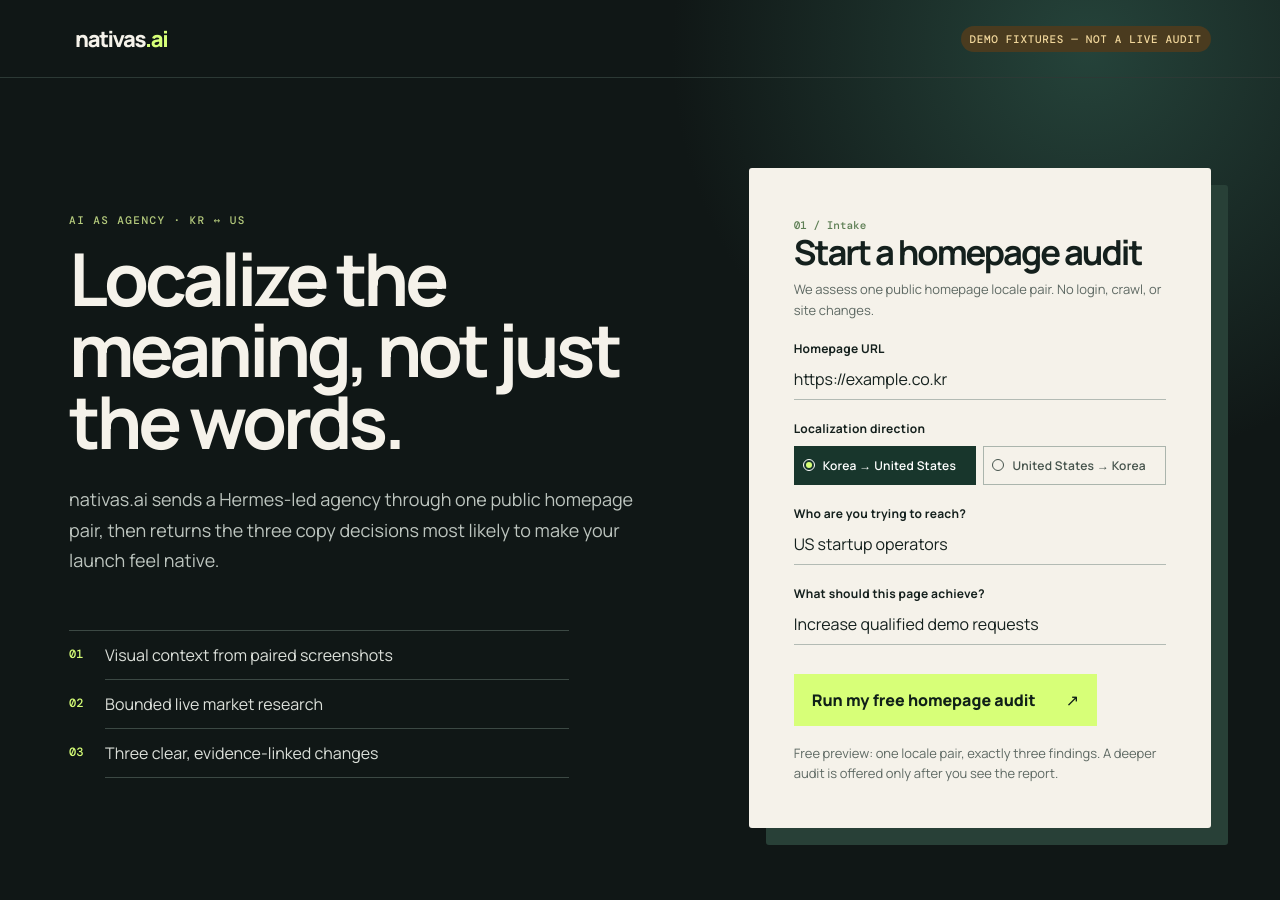
Test: intake › blocks malformed and private URLs with an honest scope error
Replace the text in the field labelled "Homepage URL" with "https://192.168.0.4" at (980, 378), box 794,357 -> 1166,400
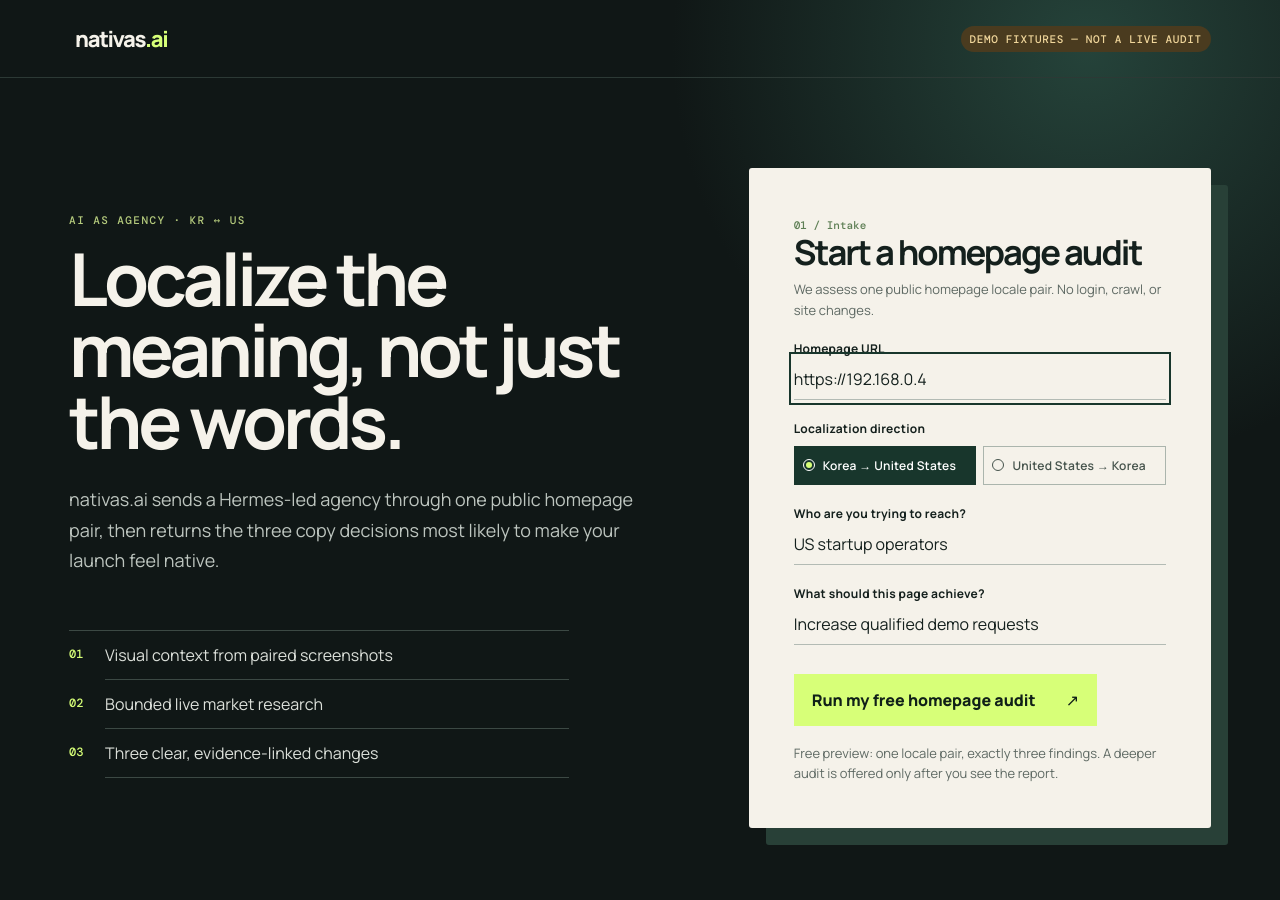
Click the button "Run my free homepage audit ↗" at (945, 700), box 794,674 -> 1097,726
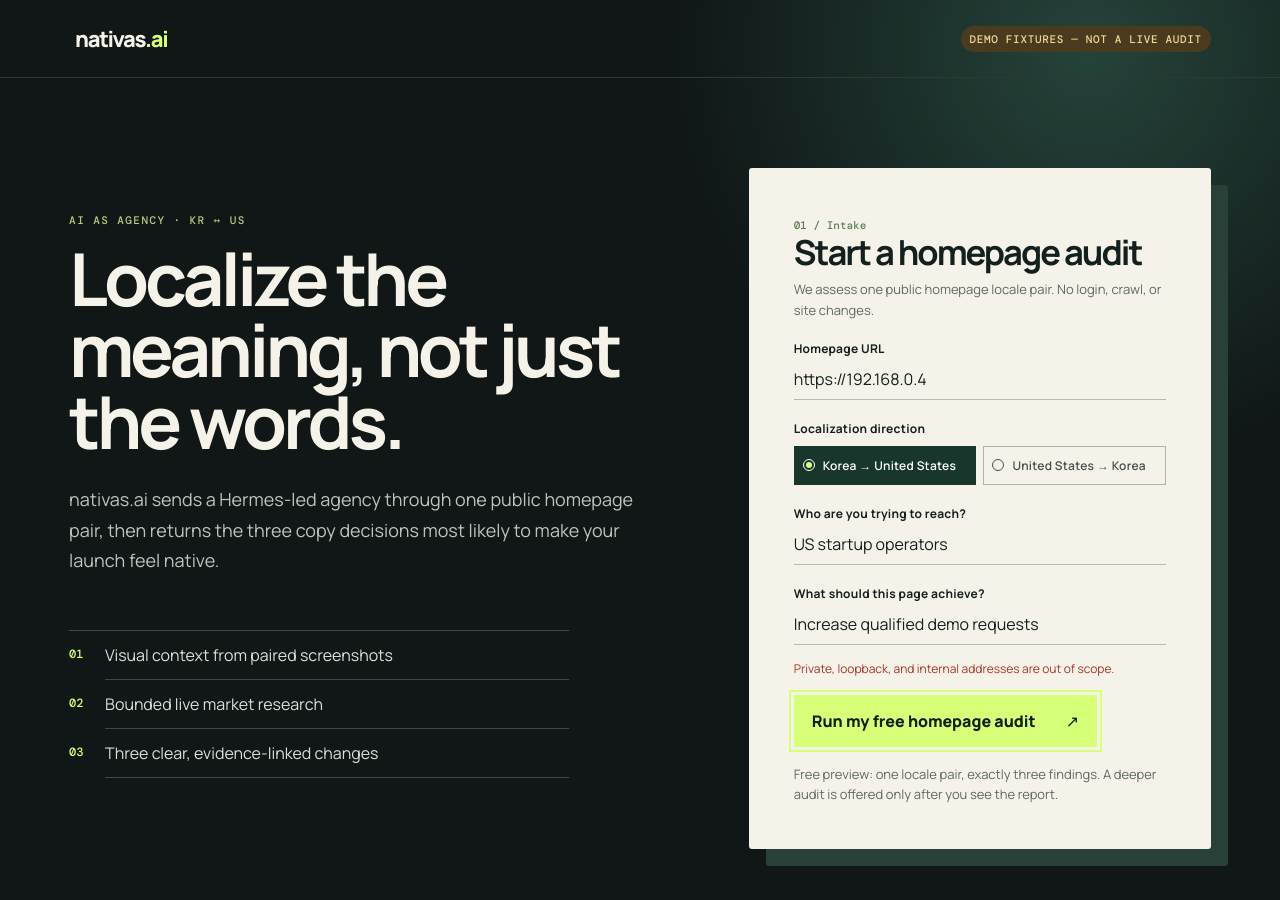
Expected: the message shows "out of scope", 794,660 -> 1114,677
Replace the text in the field labelled "Homepage URL" with "nonsense" at (980, 378), box 794,357 -> 1166,400
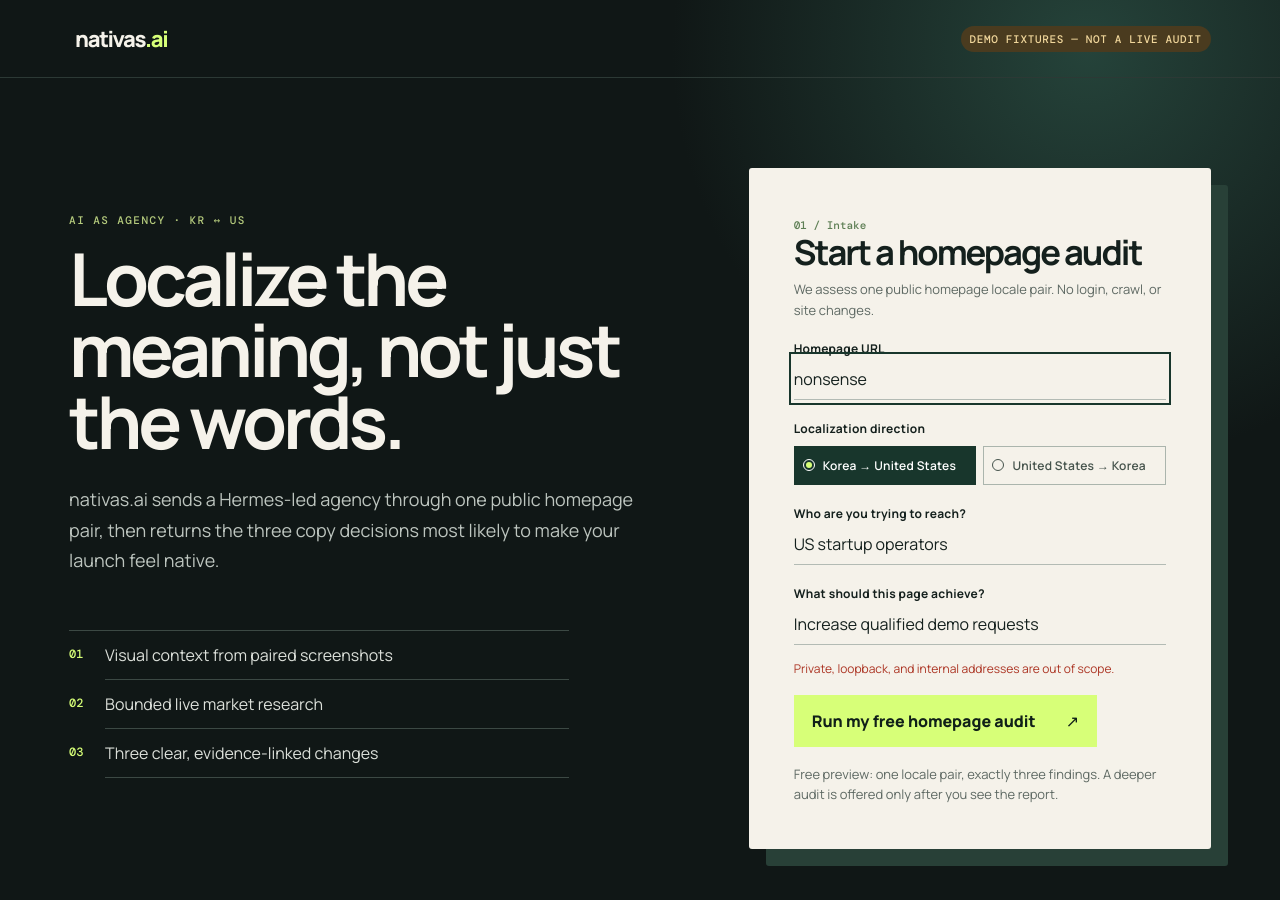
Click the button "Run my free homepage audit ↗" at (945, 721), box 794,695 -> 1097,747
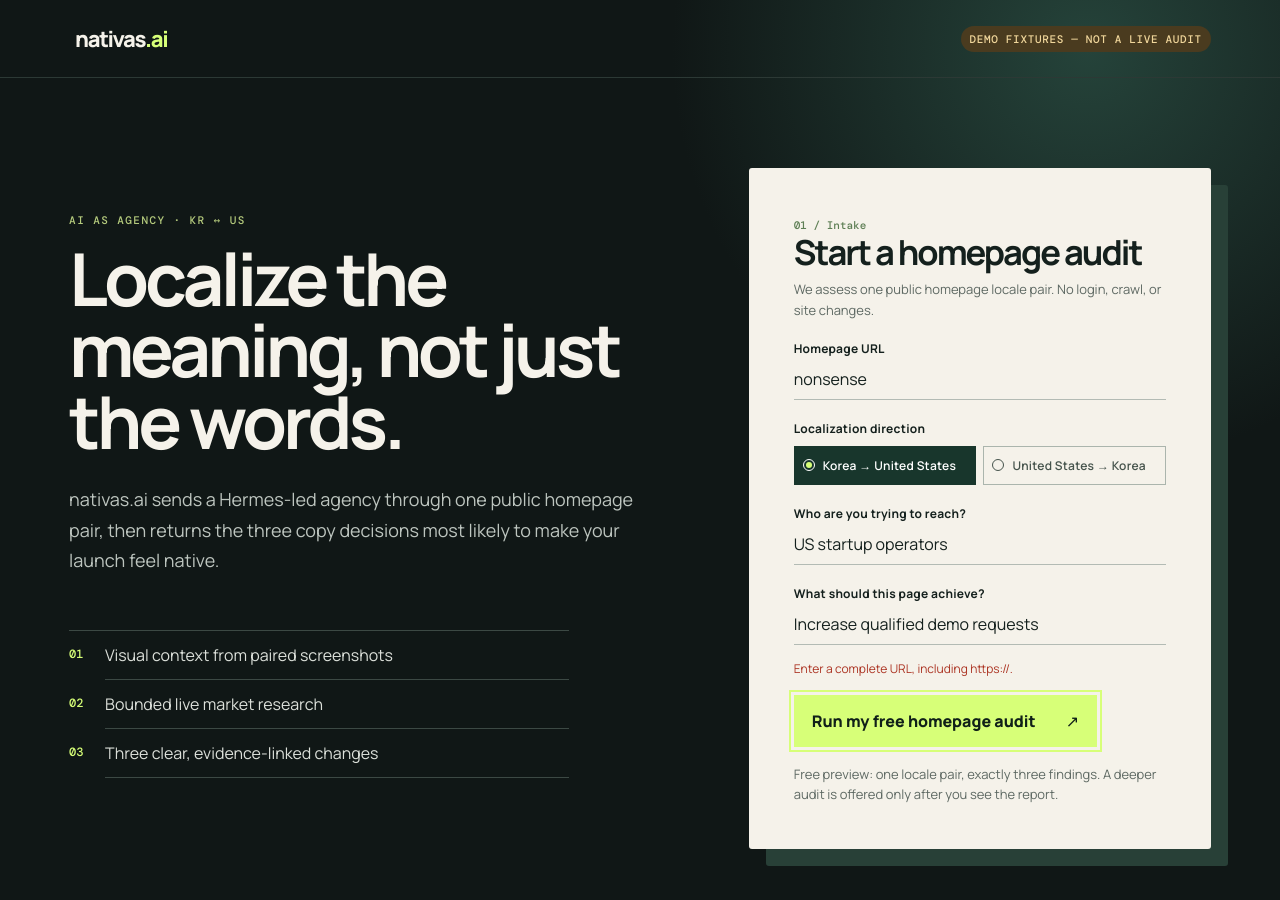
Expected: the message shows "complete URL", 794,660 -> 1013,677
